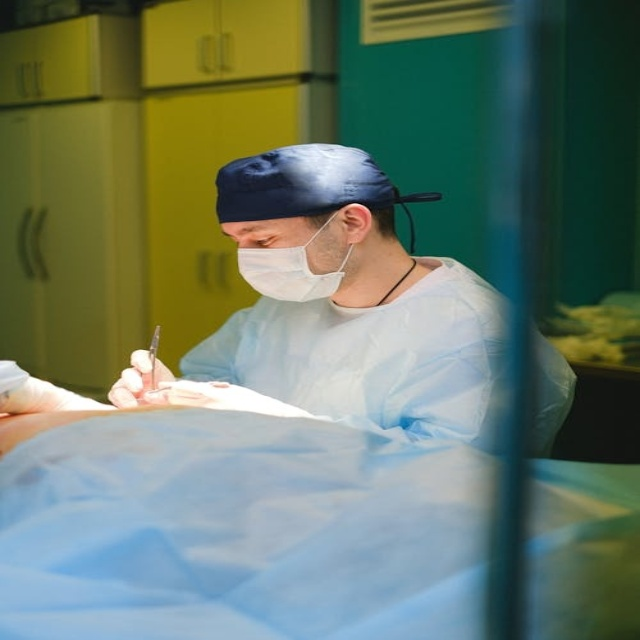Guantes: (100, 346, 191, 410)
Mascara: (236, 209, 355, 302)
Sin_gafas: (218, 225, 294, 250)
